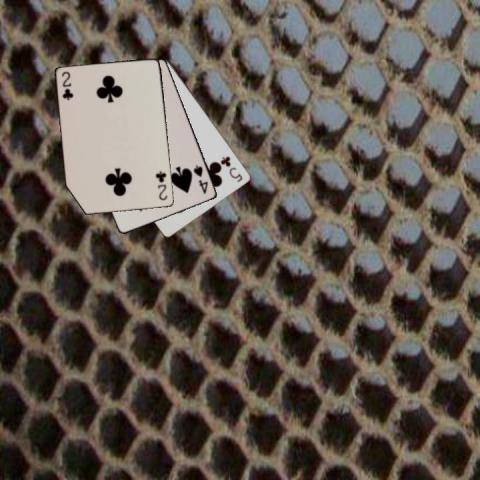2c: (152, 168, 168, 202), (59, 69, 74, 101)
4s: (191, 162, 209, 195)
5c: (218, 153, 244, 184)
